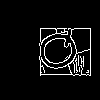Q: (25, 25, 84, 78)
